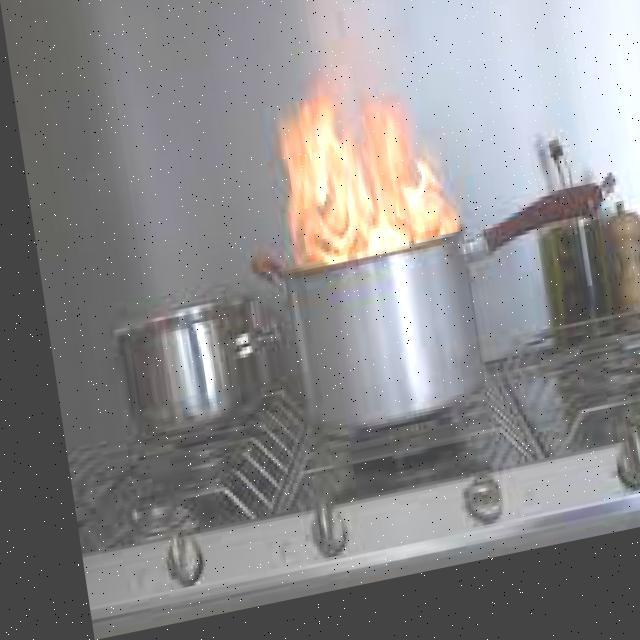Fire: (251, 79, 465, 295)
